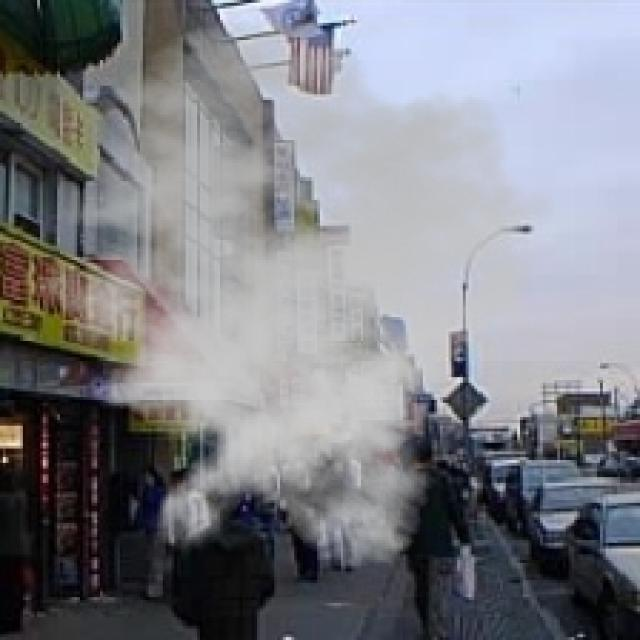Smoke: (6, 17, 568, 572)
